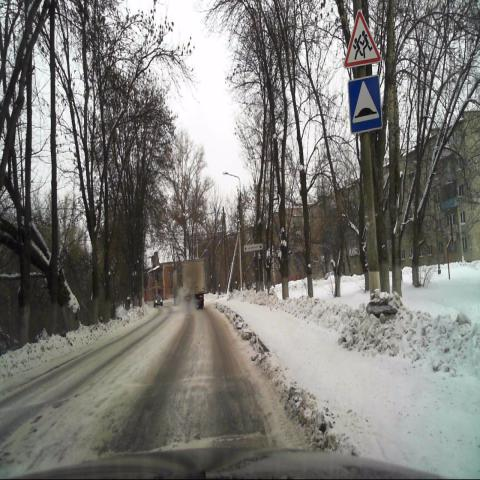5_20: (347, 75, 382, 135)
